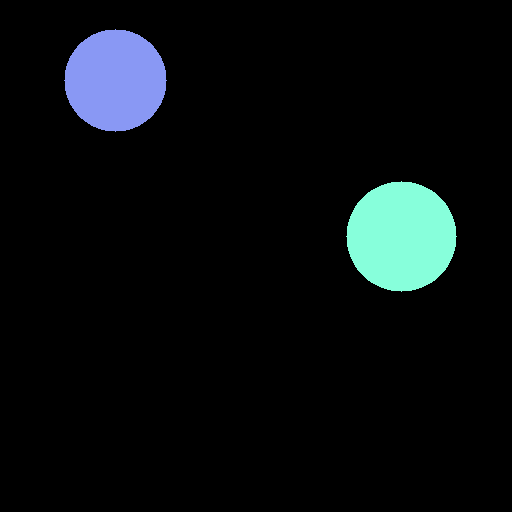circle: (346, 181, 456, 291), (64, 29, 166, 131)
